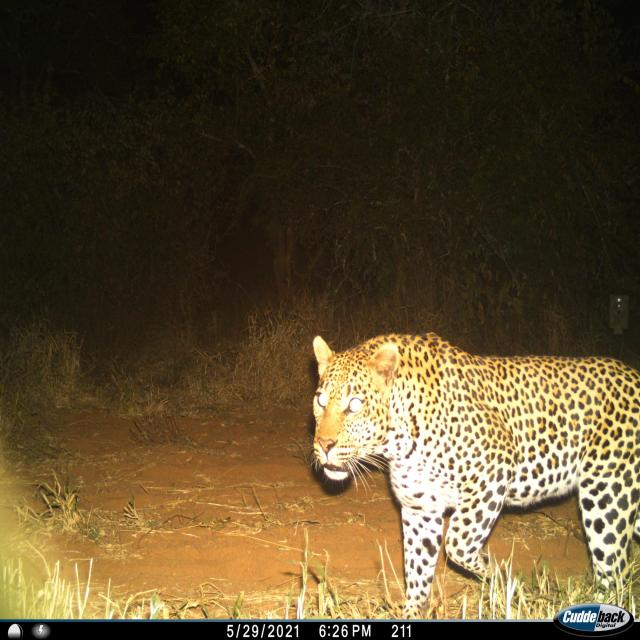Leopard: (306, 318, 637, 630)
